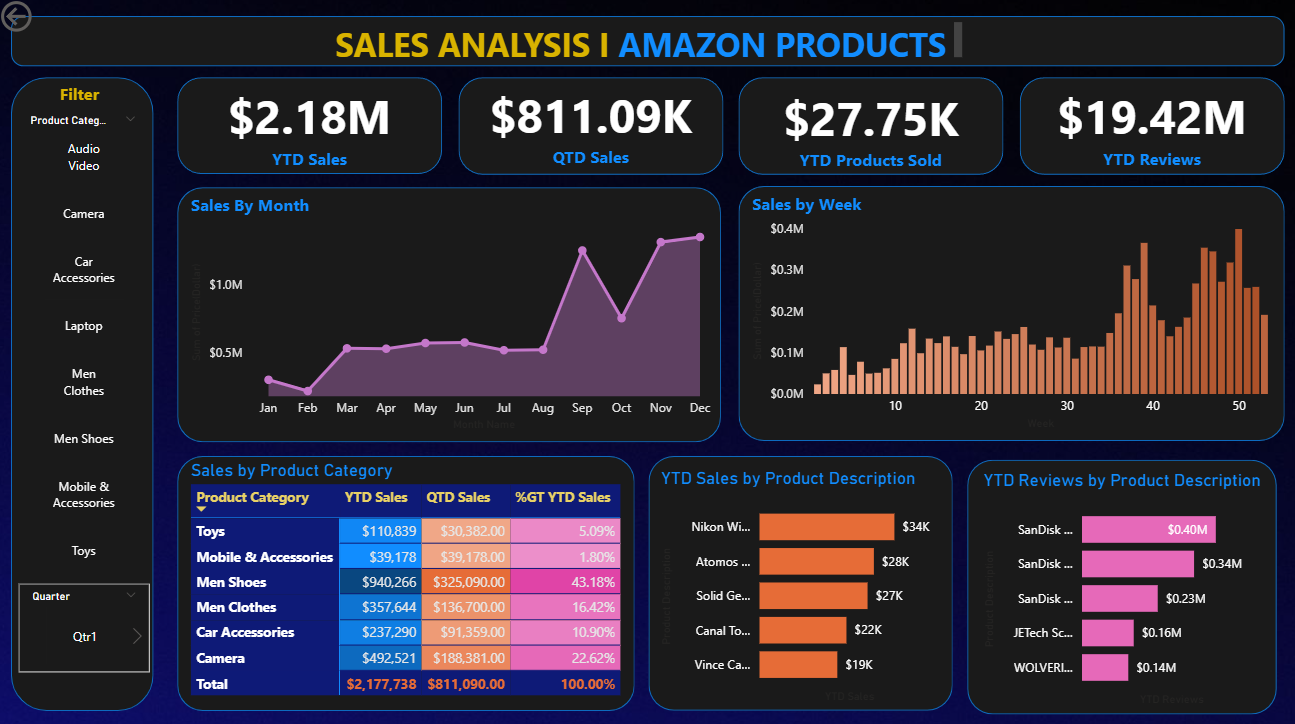

The page's visual inventory and layout, read from the dashboard file:
{"tool":"powerbi","page":{"name":"Page 1","canvas":[1280,720],"ordinal":0},"visuals":[{"type":"shape","box":[15.1,19.2,1250.1,49.4],"z":0},{"type":"textbox","box":[327.6,20.9,625.8,47.9],"z":1000},{"type":"shape","box":[14.7,79.8,139.9,622.1],"z":2000},{"type":"shape","box":[177.9,79.8,260,95],"z":3000},{"type":"shape","box":[453.5,79.8,260.1,95.7],"z":4000},{"type":"shape","box":[729.2,79.8,260.1,95.7],"z":5000},{"type":"shape","box":[1004.9,79.8,260.1,95.7],"z":6000},{"type":"card","fields":{"Values":["Amazon_Data.YTD Sales"]},"box":[177.9,81,260.1,94.5],"z":7000},{"type":"card","fields":{"Values":["Amazon_Data.QTD Sales"]},"box":[454,79.8,260.1,94.5],"z":8000},{"type":"card","fields":{"Values":["Amazon_Data.YTD Products Sold"]},"box":[728.8,82.2,260.1,94.5],"z":9000},{"type":"card","fields":{"Values":["Amazon_Data.YTD Reviews"]},"box":[1004.9,81,260.1,94.5],"z":10000},{"type":"shape","box":[177.9,187.5,533.7,250.3],"z":11000},{"type":"areaChart","title":"Sales By Month","fields":{"Category":["Date Table.Month Name"],"Y":["Sum(Amazon_Data.Price(Dollar))"]},"box":[186.5,193.6,525.2,238],"z":12000},{"type":"shape","box":[728.8,186.5,536.2,250.3],"z":13000},{"type":"columnChart","title":"Sales by Week","fields":{"Category":["Date Table.Week"],"Y":["Sum(Amazon_Data.Price(Dollar))"]},"box":[737.4,192.6,520.2,238],"z":14000},{"type":"shape","box":[177.9,451.5,449.1,250.3],"z":15000},{"type":"pivotTable","title":"Sales by Product Category","fields":{"Rows":["Amazon_Data.Product Category"],"Values":["Amazon_Data.YTD Sales1","Amazon_Data.QTD Sales","Amazon_Data.YTD Sales"]},"box":[186.7,455,453.3,244.2],"z":16000},{"type":"actionButton","box":[0,0,100,40],"z":17000},{"type":"shape","box":[640,451.2,298.8,250],"z":18000},{"type":"shape","box":[953.8,455,303.8,250],"z":19000},{"type":"clusteredBarChart","fields":{"Category":["Amazon_Data.Product Description"],"Y":["Amazon_Data.YTD Sales"]},"box":[647.5,462.5,283.8,236.2],"z":20000},{"type":"clusteredBarChart","fields":{"Category":["Amazon_Data.Product Description"],"Y":["Amazon_Data.YTD Reviews"]},"box":[964.4,464.4,283.3,236.7],"z":21000},{"type":"slicer","fields":{"Values":["Amazon_Data.Product Category"]},"box":[21.2,110,128.8,466.2],"z":22000},{"type":"slicer","fields":{"Values":["Date Table.Qtr"]},"box":[22.5,576.2,128.8,87.5],"z":23000},{"type":"textbox","box":[57.5,80,86.2,43.8],"z":24000}]}

Visuals, with their boxes in screenshot pixels (x1, y1, x2, y2), scaled from the page's 1280x720 canvas onto the 1295x724 screenshot:
shape: (left=15, top=19, right=1280, bottom=69)
textbox: (left=331, top=21, right=965, bottom=69)
shape: (left=15, top=80, right=156, bottom=706)
shape: (left=180, top=80, right=443, bottom=176)
shape: (left=459, top=80, right=722, bottom=176)
shape: (left=738, top=80, right=1001, bottom=176)
shape: (left=1017, top=80, right=1280, bottom=176)
card - Amazon_Data.YTD Sales: (left=180, top=81, right=443, bottom=176)
card - Amazon_Data.QTD Sales: (left=459, top=80, right=722, bottom=175)
card - Amazon_Data.YTD Products Sold: (left=737, top=83, right=1000, bottom=178)
card - Amazon_Data.YTD Reviews: (left=1017, top=81, right=1280, bottom=176)
shape: (left=180, top=189, right=720, bottom=440)
"Sales By Month" areaChart: (left=189, top=195, right=720, bottom=434)
shape: (left=737, top=188, right=1280, bottom=439)
"Sales by Week" columnChart: (left=746, top=194, right=1272, bottom=433)
shape: (left=180, top=454, right=634, bottom=706)
"Sales by Product Category" pivotTable: (left=189, top=458, right=648, bottom=703)
actionButton: (left=0, top=0, right=101, bottom=40)
shape: (left=648, top=454, right=950, bottom=705)
shape: (left=965, top=458, right=1272, bottom=709)
clusteredBarChart - Amazon_Data.Product Description x Amazon_Data.YTD Sales: (left=655, top=465, right=942, bottom=703)
clusteredBarChart - Amazon_Data.Product Description x Amazon_Data.YTD Reviews: (left=976, top=467, right=1262, bottom=705)
slicer - Amazon_Data.Product Category: (left=21, top=111, right=152, bottom=579)
slicer - Date Table.Qtr: (left=23, top=579, right=153, bottom=667)
textbox: (left=58, top=80, right=145, bottom=124)
